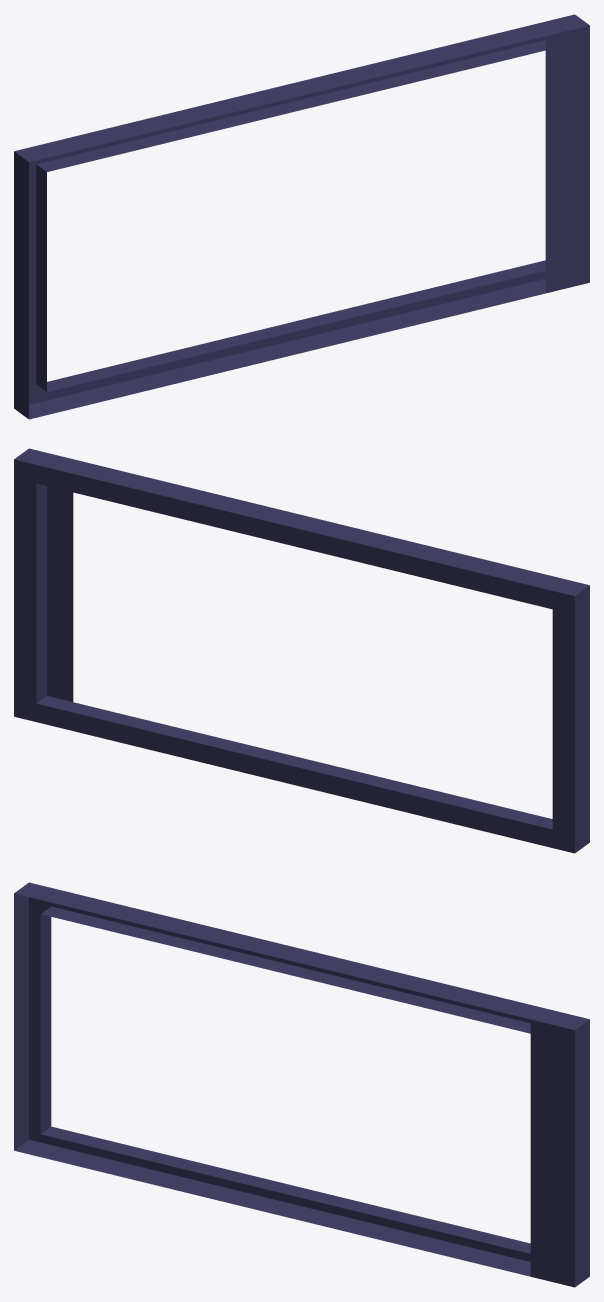
File: FBX_CadreFenetre.fbx
The picture shows the model from 3 angles, top to bottom: view 1: azimuth 30°, elevation 25°; view 2: azimuth 150°, elevation 25°; view 3: azimuth 330°, elevation 25°; orthographic projection.
Parts seen in each view (by area): view 1: Cube.169; view 2: Cube.169; view 3: Cube.169.
Boxes of the visible parts, x1,y1,x2,y2 form: Cube.169: (14, 14, 589, 419); Cube.169: (14, 448, 589, 853); Cube.169: (14, 882, 589, 1287).
Size of the model in its own units: 1639 by 718 by 76.19.
